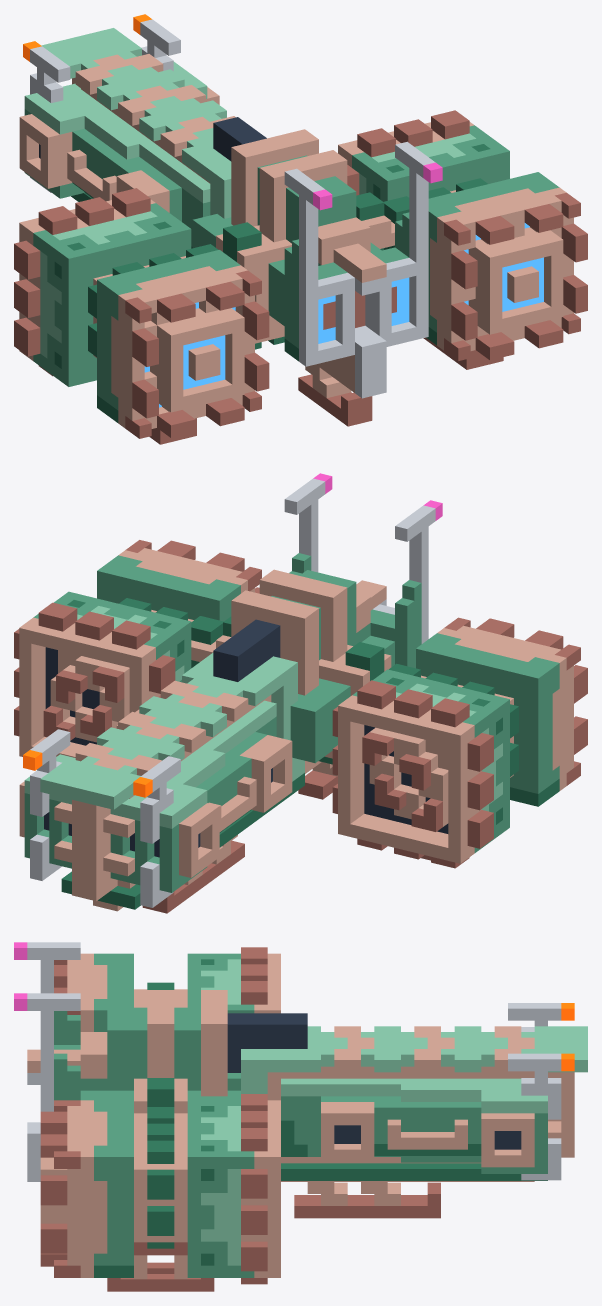
The model's file is pioneer-s26.glb.
The picture shows the model from 3 angles, top to bottom: view 1: azimuth 30°, elevation 25°; view 2: azimuth 150°, elevation 25°; view 3: azimuth 270°, elevation 25°; orthographic projection. The views are drawn at different scales.
Parts seen in each view (by area): view 1: 0; view 2: 0; view 3: 0.
Part boxes in pixels (x1=…): 0: x1=14, y1=14, x2=587, y2=444; 0: x1=14, y1=473, x2=587, y2=913; 0: x1=14, y1=942, x2=587, y2=1291.
Bounding box in the file's own units: 38 × 20 × 43.
Materials: 10 (10 with a texture image).
